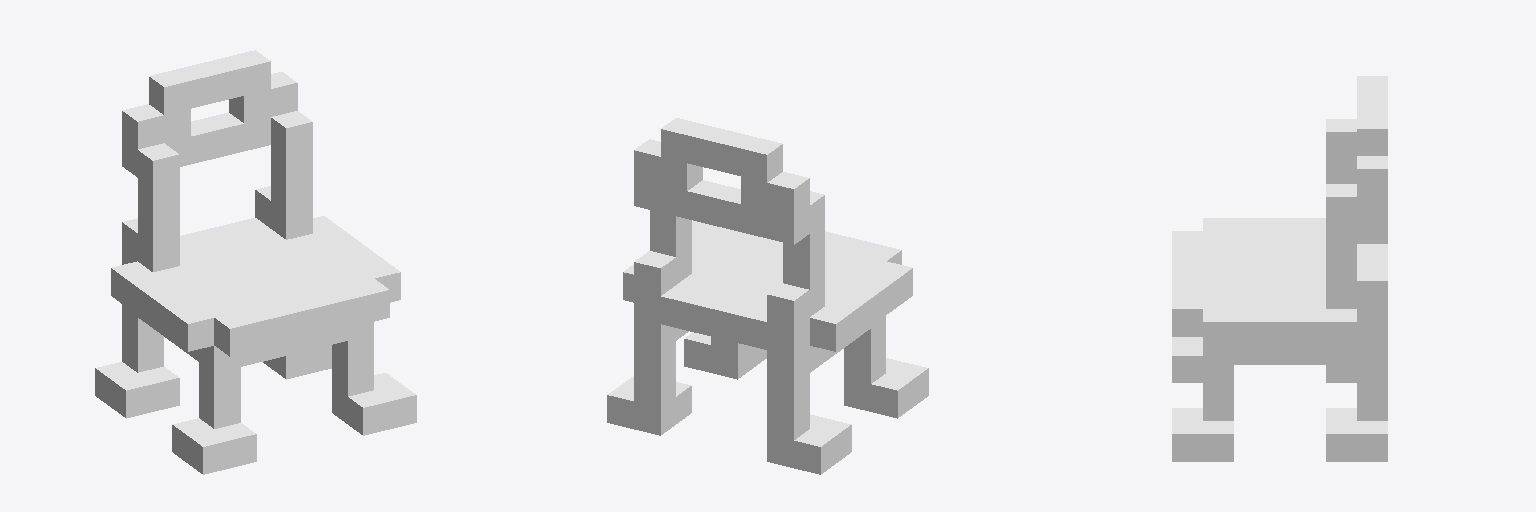
File: Chair.obj
3 views of the same model, side by side, from view 1: azimuth 30°, elevation 25°; view 2: azimuth 150°, elevation 25°; view 3: azimuth 270°, elevation 25° (orthographic).
Size of the model in its own units: 8 by 11 by 7.